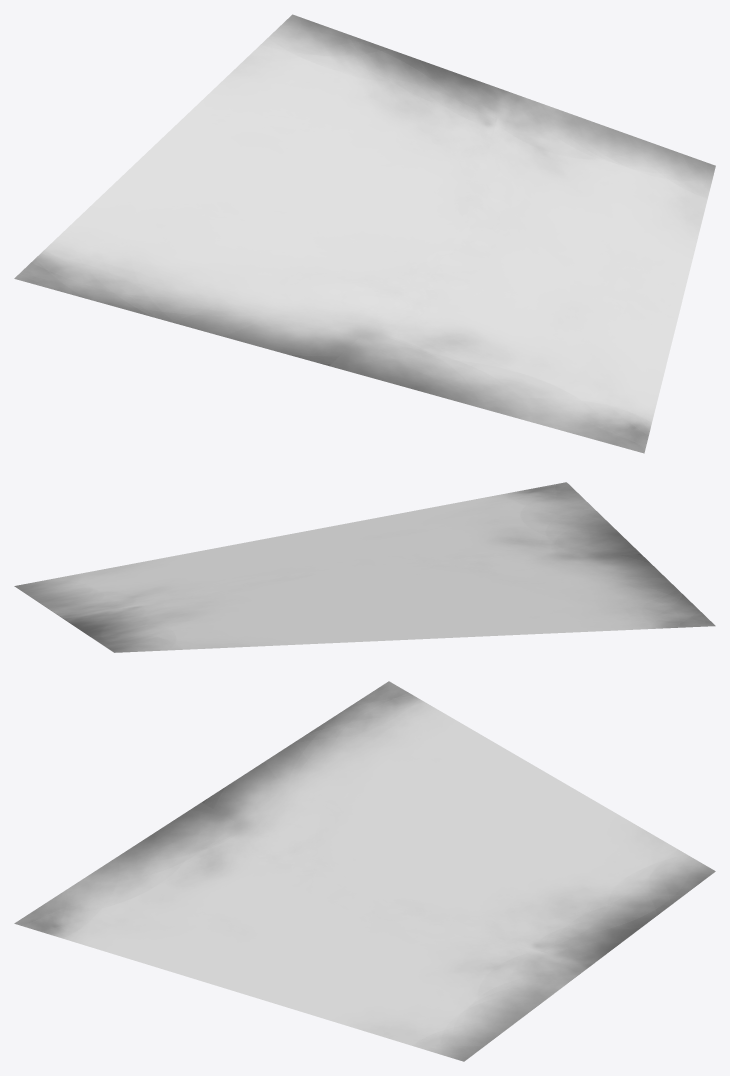
Rendered from CourseWinter_CurveFloor_5_13.fbx.
The picture shows the model from 3 angles, top to bottom: view 1: azimuth 30°, elevation 25°; view 2: azimuth 150°, elevation 25°; view 3: azimuth 270°, elevation 25°; orthographic projection. The views are drawn at different scales.
Visible parts, largest first — view 1: polySurface206; view 2: polySurface206; view 3: polySurface206.
Part boxes in pixels (x1,y1,x2,y2): polySurface206: (14, 14, 715, 453); polySurface206: (14, 482, 715, 652); polySurface206: (14, 681, 715, 1061).
Bounding box in the file's own units: 7.57 × 1 × 7.57.
1 material, 1 textured.
